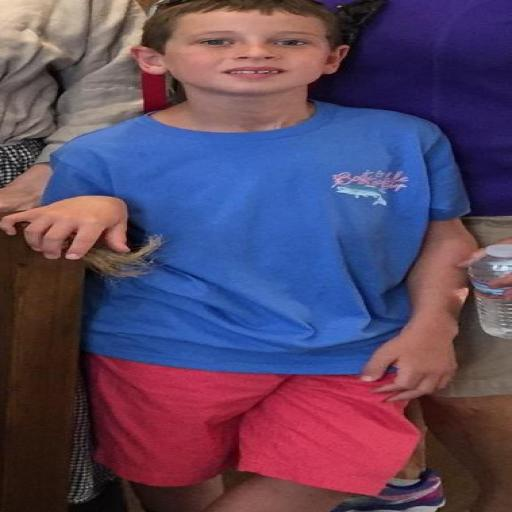person: (2, 0, 474, 511), (314, 0, 511, 245), (0, 0, 144, 212)
